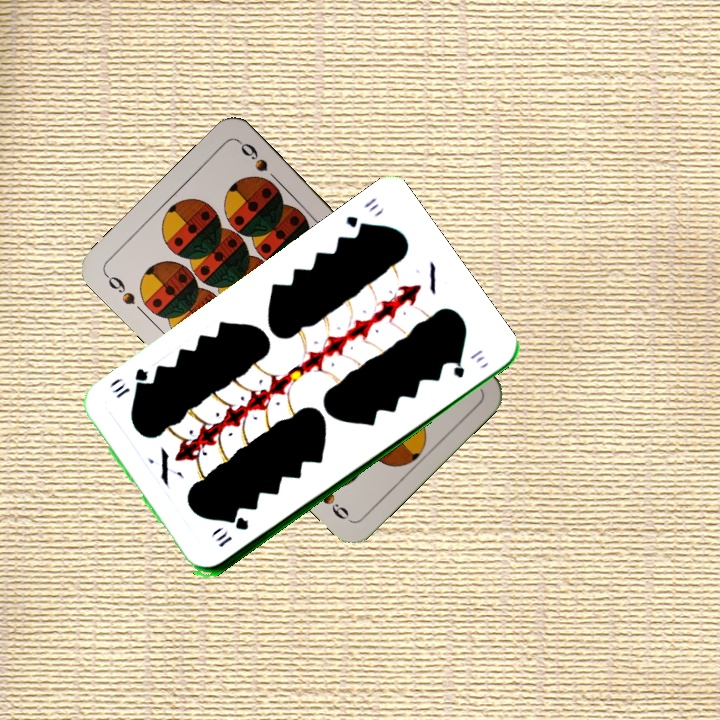G10: (341, 193, 381, 236), (212, 514, 252, 550)
S9: (101, 269, 138, 308)
